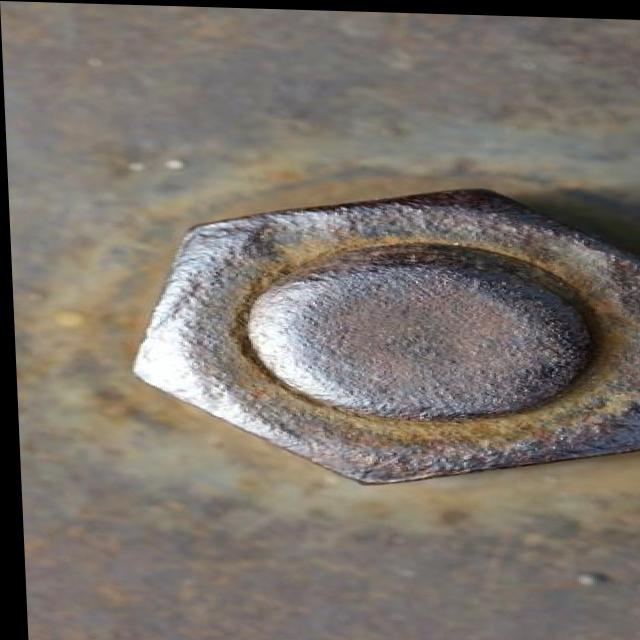Rusty bolt: (119, 177, 640, 490)
